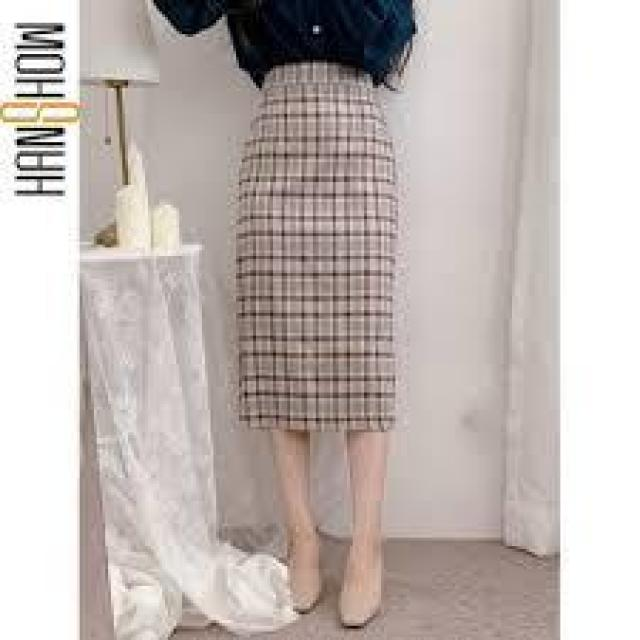skirt: (235, 61, 405, 442)
